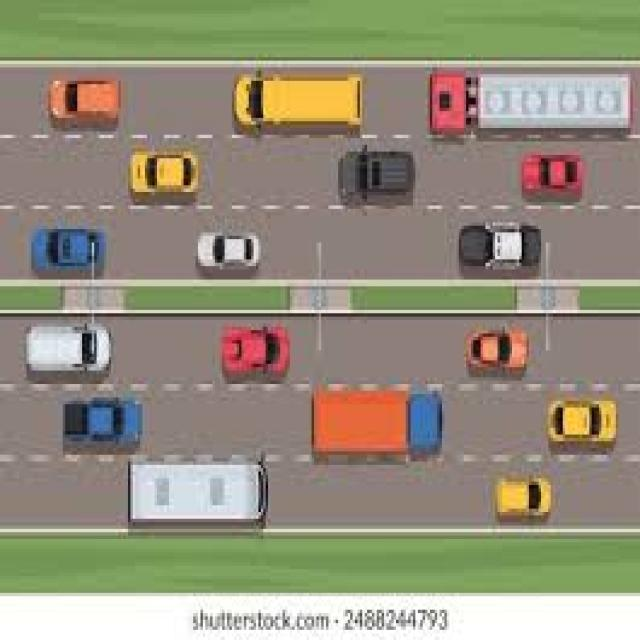truck: (428, 70, 633, 133), (126, 454, 269, 527), (310, 392, 447, 452), (230, 73, 366, 126), (336, 147, 421, 209), (27, 326, 114, 374), (124, 150, 204, 198), (64, 396, 145, 442), (30, 225, 109, 272), (459, 224, 541, 268), (221, 327, 291, 375), (46, 75, 122, 119), (546, 401, 620, 445), (190, 229, 262, 270), (465, 326, 529, 370), (522, 156, 586, 195), (493, 482, 556, 520)
